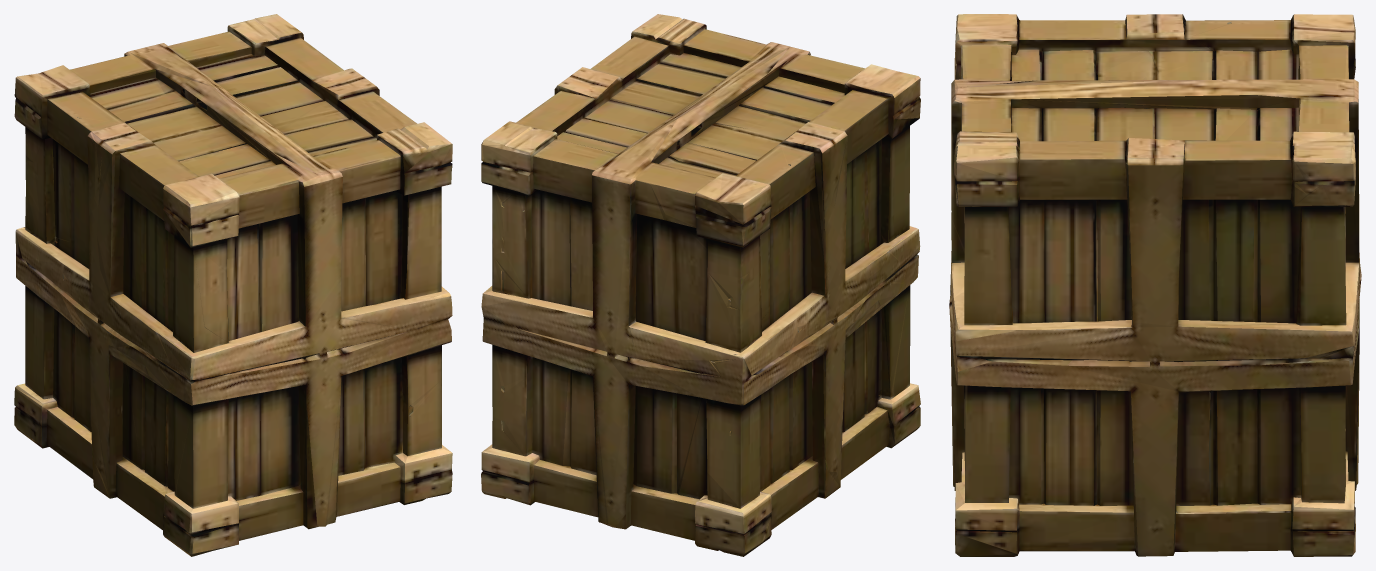
Rendered from prop_wood_crate_large_01.glb.
3 views of the same model, side by side, from view 1: azimuth 30°, elevation 25°; view 2: azimuth 150°, elevation 25°; view 3: azimuth 270°, elevation 25° (orthographic). The views are drawn at different scales.
Visible parts, largest first — view 1: geometry_0; view 2: geometry_0; view 3: geometry_0.
Part boxes in pixels (x1,y1,x2,y2): geometry_0: [14, 14, 452, 556]; geometry_0: [481, 14, 920, 556]; geometry_0: [949, 14, 1361, 556].
Bounding box in the file's own units: 0.7748 × 0.993 × 0.9064.
Materials: 1 (1 with a texture image).
